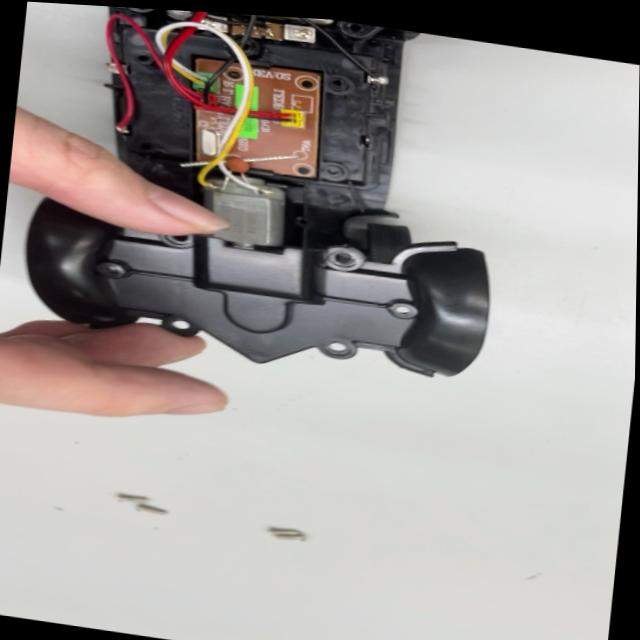motor_cover: (11, 191, 500, 396)
